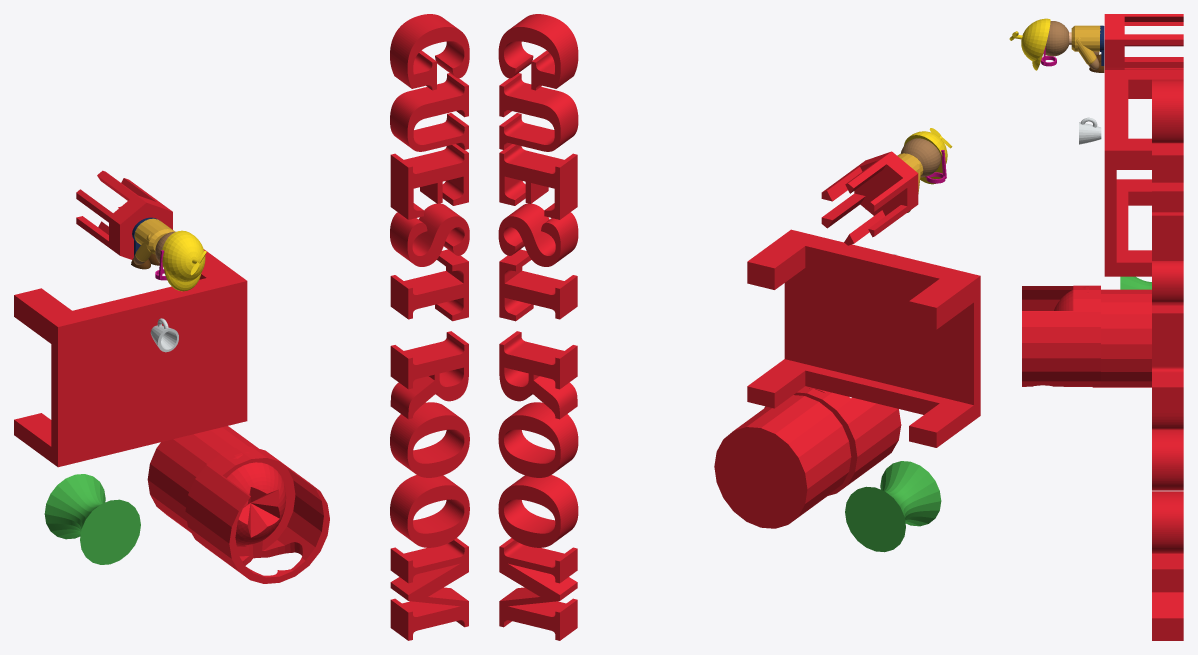
The model's file is tinker.obj.
The picture shows the model from 3 angles, left to right: view 1: azimuth 30°, elevation 25°; view 2: azimuth 150°, elevation 25°; view 3: azimuth 270°, elevation 25°; orthographic projection. The views are drawn at different scales.
Visible parts, largest first — view 1: group_0_15277357, group_0_4634441, group_0_16768282, group_0_14789940, group_0_14541540; view 2: group_0_15277357, group_0_4634441, group_0_11107152; view 3: group_0_15277357, group_0_16768282, group_0_14789940, group_0_11107152, group_0_14541540, group_0_4634441.
Part boxes in pixels (box(x1,y1,x2,y2)): group_0_15277357: box(14, 14, 469, 640); group_0_4634441: box(44, 474, 140, 564); group_0_16768282: box(162, 230, 206, 291); group_0_14789940: box(134, 218, 174, 261); group_0_14541540: box(150, 318, 178, 352); group_0_15277357: box(498, 14, 980, 640); group_0_4634441: box(845, 461, 941, 552); group_0_11107152: box(900, 138, 940, 177); group_0_15277357: box(1022, 14, 1183, 640); group_0_16768282: box(1009, 18, 1050, 70); group_0_14789940: box(1071, 25, 1100, 64); group_0_11107152: box(1043, 21, 1099, 69); group_0_14541540: box(1079, 117, 1101, 144); group_0_4634441: box(1120, 276, 1151, 289).
Bounding box in the file's own units: 143 × 189 × 55.
